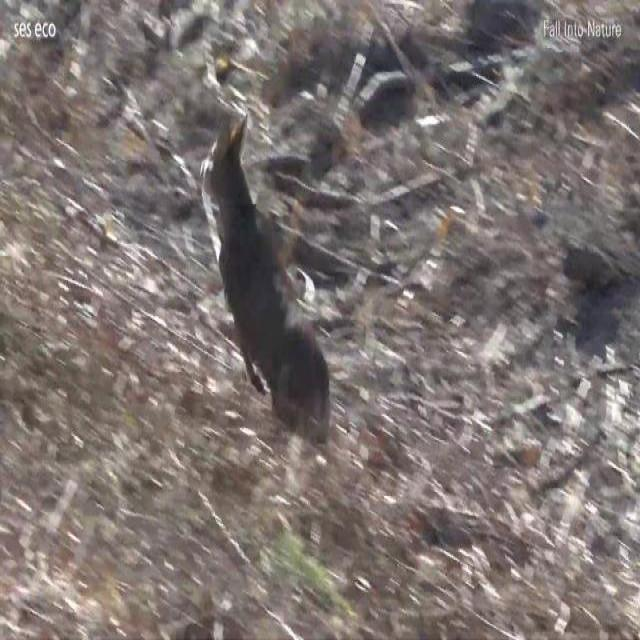deer: (202, 109, 331, 438)
